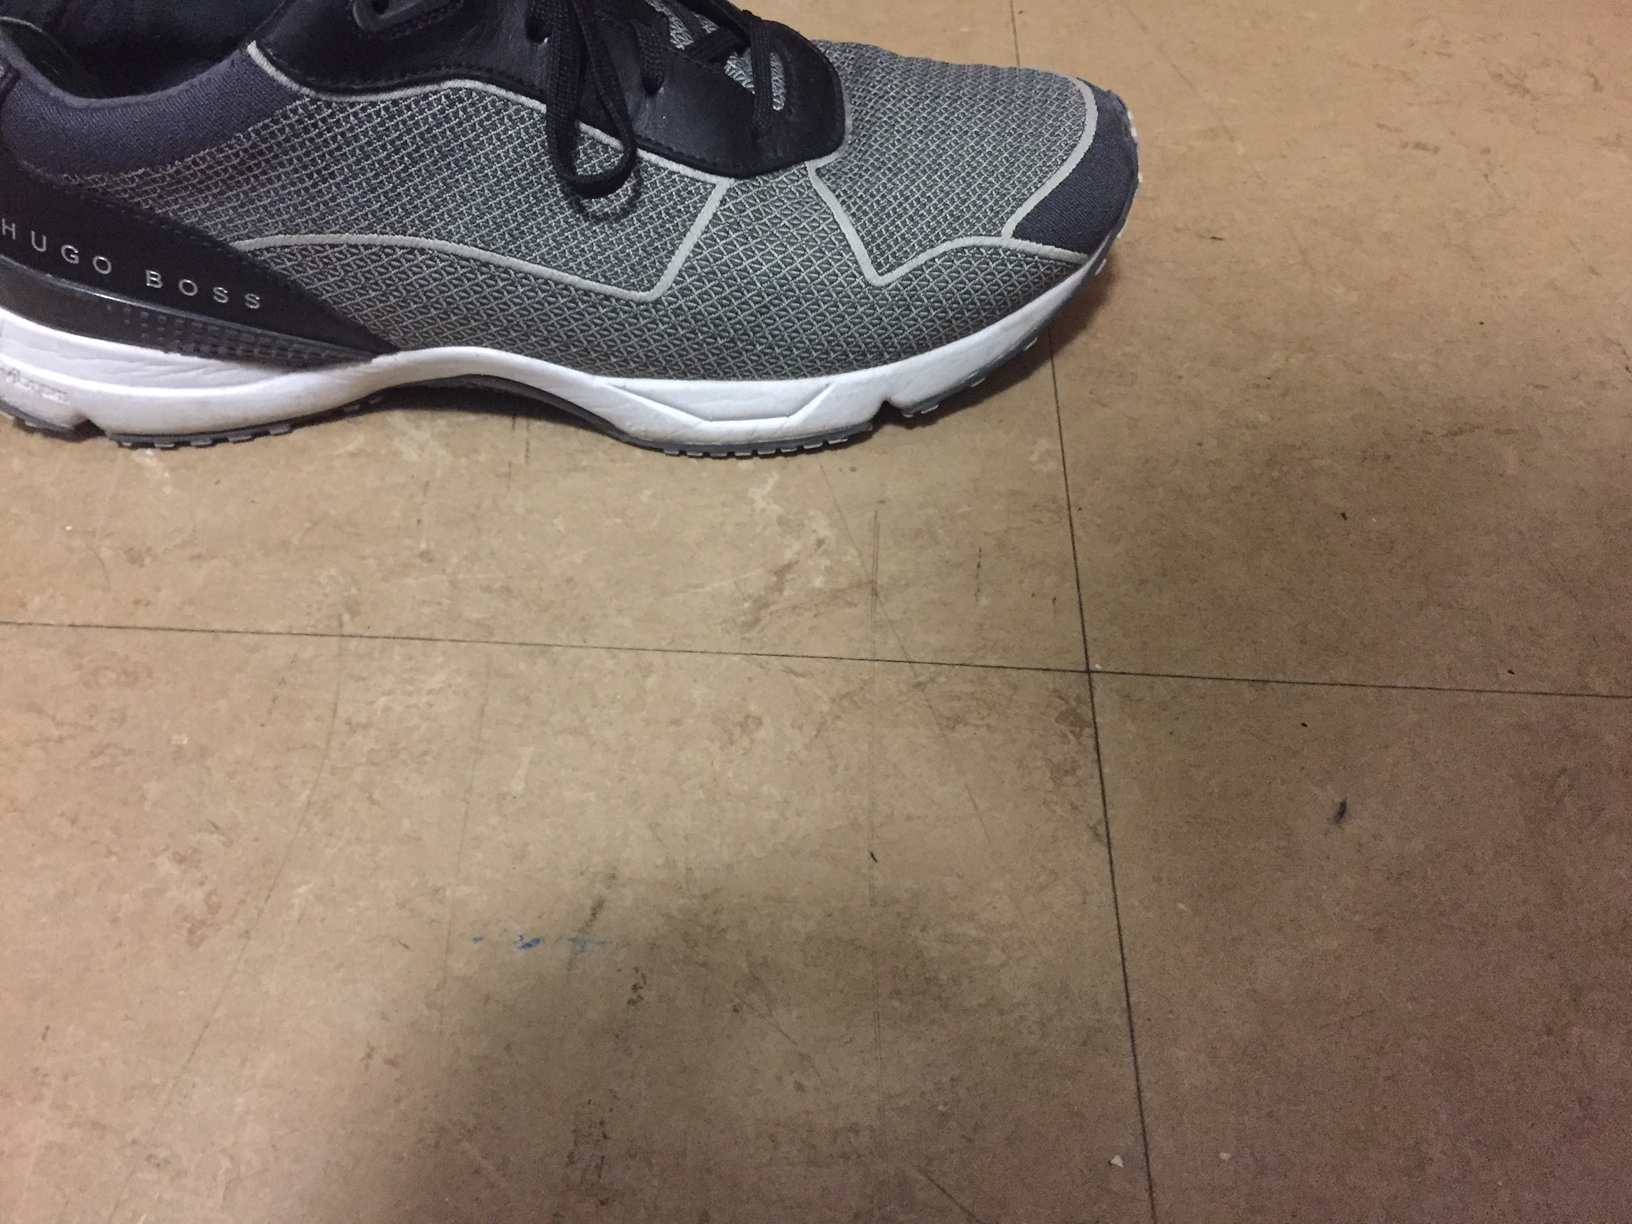car: (1, 6, 1153, 474)
